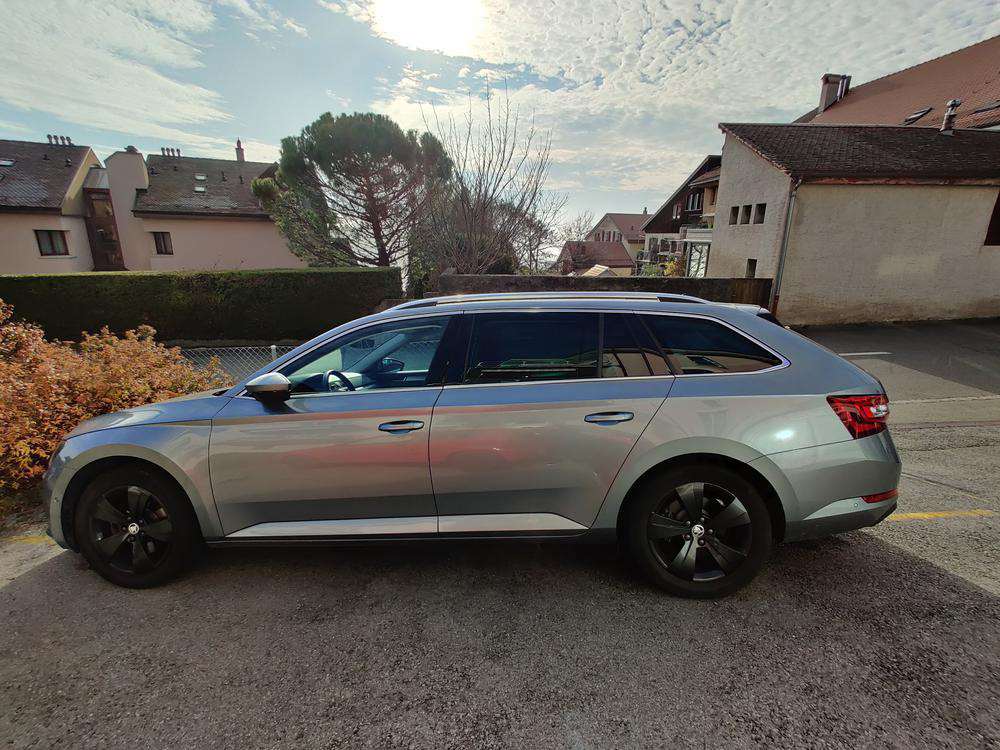mobil: (38, 284, 907, 605)
